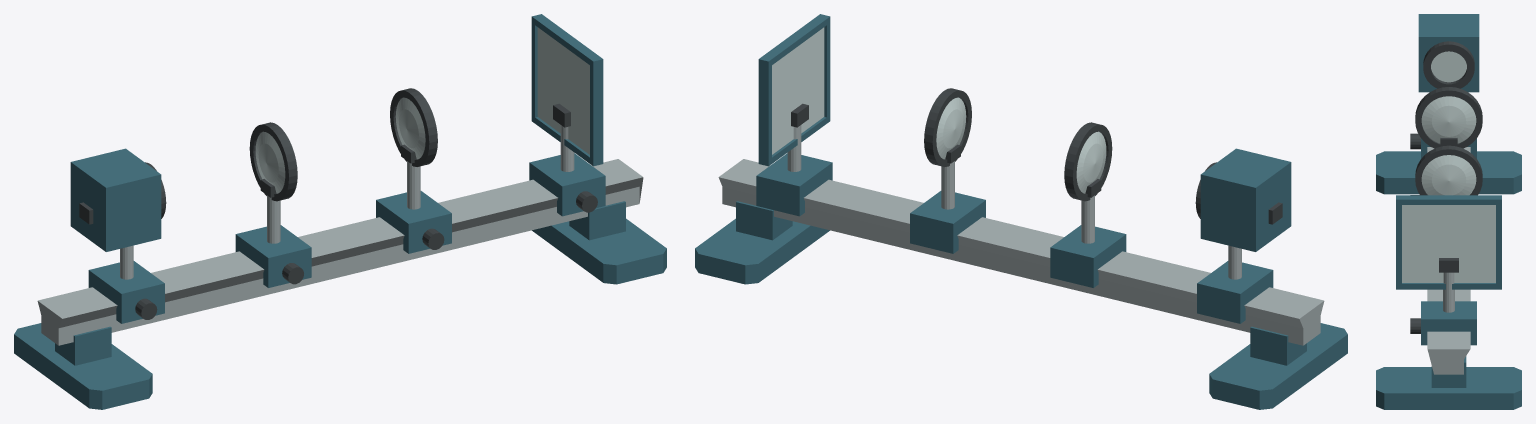
3 renders of one model, left to right at view 1: azimuth 30°, elevation 25°; view 2: azimuth 150°, elevation 25°; view 3: azimuth 270°, elevation 25°, orthographic. The views are drawn at different scales.
Parts seen in each view (by area): view 1: WholeDovetailRail, WholeLampBox, WholeBroadTransverseFoot0, WholeBroadTransverseFoot1, WholeBlankScreen, WholeScreenSurround, WholeCapturedSaddle1, WholeCapturedSaddle3, WholeCapturedSaddle0, WholeCapturedSaddle2, WholeLensFrame0, WholeLensFrame1 (+6 smaller); view 2: WholeDovetailRail, WholeLampBox, WholeBroadTransverseFoot0, WholeBroadTransverseFoot1, WholeBlankScreen, WholeScreenSurround, WholeCapturedSaddle0, WholeCapturedSaddle1, WholeCapturedSaddle3, WholeCapturedSaddle2, WholeLensFrame0, WholeLensFrame1 (+6 smaller); view 3: WholeBlankScreen, WholeBroadTransverseFoot1, WholeBroadTransverseFoot0, WholeLampBox, WholeScreenSurround, WholeDovetailRail, WholeOpaqueConvexOptic0, WholeOpaqueConvexOptic1, WholeCapturedSaddle3, WholeLensFrame0, WholeLampFrontRim, WholeLensFrame1 (+8 smaller).
Part boxes in pixels (left/top/right/bottom): WholeDovetailRail: left=37, top=159, right=643, bottom=345; WholeLampBox: left=70, top=148, right=161, bottom=251; WholeBroadTransverseFoot0: left=14, top=323, right=152, bottom=409; WholeBroadTransverseFoot1: left=532, top=218, right=666, bottom=284; WholeBlankScreen: left=537, top=27, right=589, bottom=154; WholeScreenSurround: left=531, top=14, right=603, bottom=166; WholeCapturedSaddle1: left=235, top=225, right=311, bottom=287; WholeCapturedSaddle3: left=529, top=153, right=605, bottom=216; WholeCapturedSaddle0: left=88, top=261, right=164, bottom=323; WholeCapturedSaddle2: left=376, top=191, right=451, bottom=253; WholeLensFrame0: left=249, top=122, right=297, bottom=201; WholeLensFrame1: left=390, top=88, right=437, bottom=166; WholeDovetailRail: left=718, top=159, right=1324, bottom=345; WholeLampBox: left=1200, top=148, right=1291, bottom=251; WholeBroadTransverseFoot0: left=1209, top=323, right=1347, bottom=409; WholeBroadTransverseFoot1: left=695, top=218, right=829, bottom=284; WholeBlankScreen: left=772, top=27, right=824, bottom=154; WholeScreenSurround: left=758, top=14, right=830, bottom=166; WholeCapturedSaddle0: left=1197, top=261, right=1273, bottom=323; WholeCapturedSaddle1: left=1050, top=225, right=1126, bottom=287; WholeCapturedSaddle3: left=756, top=153, right=832, bottom=216; WholeCapturedSaddle2: left=910, top=191, right=985, bottom=253; WholeLensFrame0: left=1064, top=122, right=1112, bottom=201; WholeLensFrame1: left=924, top=88, right=971, bottom=166; WholeBlankScreen: left=1402, top=205, right=1495, bottom=282; WholeBroadTransverseFoot1: left=1376, top=367, right=1521, bottom=409; WholeBroadTransverseFoot0: left=1376, top=151, right=1521, bottom=194; WholeLampBox: left=1418, top=14, right=1479, bottom=92; WholeScreenSurround: left=1396, top=195, right=1501, bottom=289; WholeDovetailRail: left=1427, top=147, right=1470, bottom=374; WholeOpaqueConvexOptic0: left=1421, top=96, right=1476, bottom=143; WholeOpaqueConvexOptic1: left=1421, top=155, right=1476, bottom=195; WholeCapturedSaddle3: left=1421, top=301, right=1476, bottom=345; WholeLensFrame0: left=1415, top=87, right=1482, bottom=148; WholeLampFrontRim: left=1423, top=41, right=1474, bottom=88; WholeLensFrame1: left=1415, top=145, right=1482, bottom=195.
Bounding box in the file's own units: 1.74 × 0.622 × 0.44.
